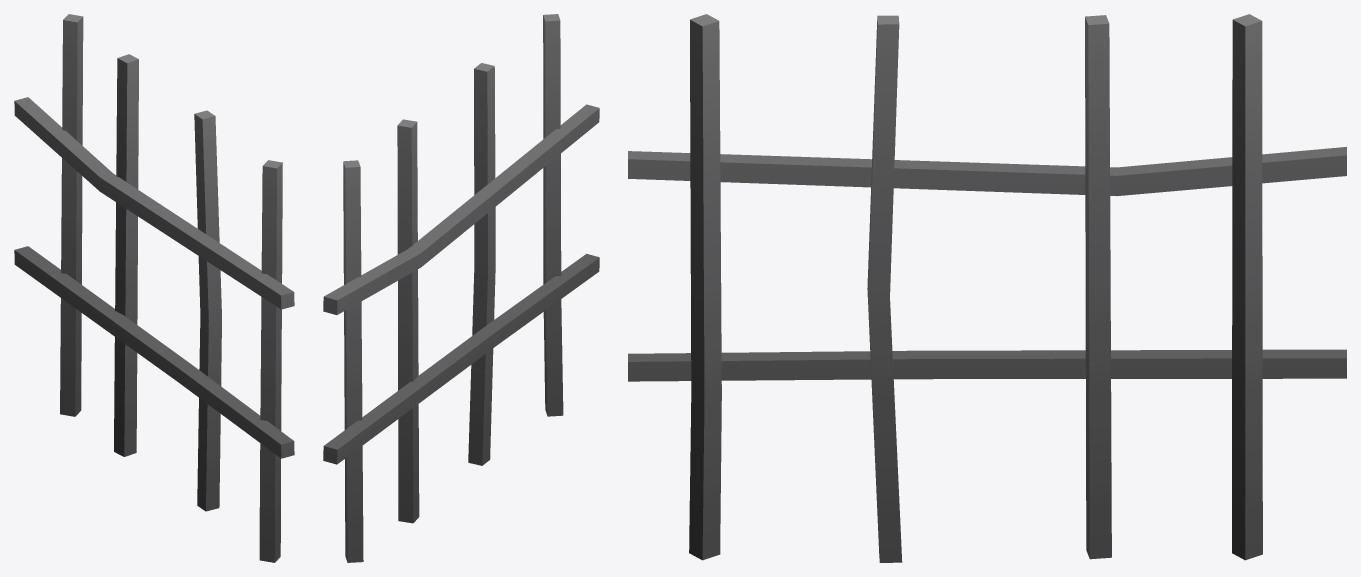
File: RreinforcingBars_B_3_.fbx
3 renders of one model, left to right at view 1: azimuth 30°, elevation 25°; view 2: azimuth 150°, elevation 25°; view 3: azimuth 270°, elevation 25°, orthographic. The views are drawn at different scales.
Visible parts, largest first — view 1: RreinforcingBars_B_3; view 2: RreinforcingBars_B_3; view 3: RreinforcingBars_B_3.
Boxes of the visible parts, x1,y1,x2,y2 form: RreinforcingBars_B_3: [14, 14, 294, 562]; RreinforcingBars_B_3: [323, 14, 599, 562]; RreinforcingBars_B_3: [628, 14, 1346, 562].
Size of the model in its own units: 5.31 by 59.8 by 72.76.
